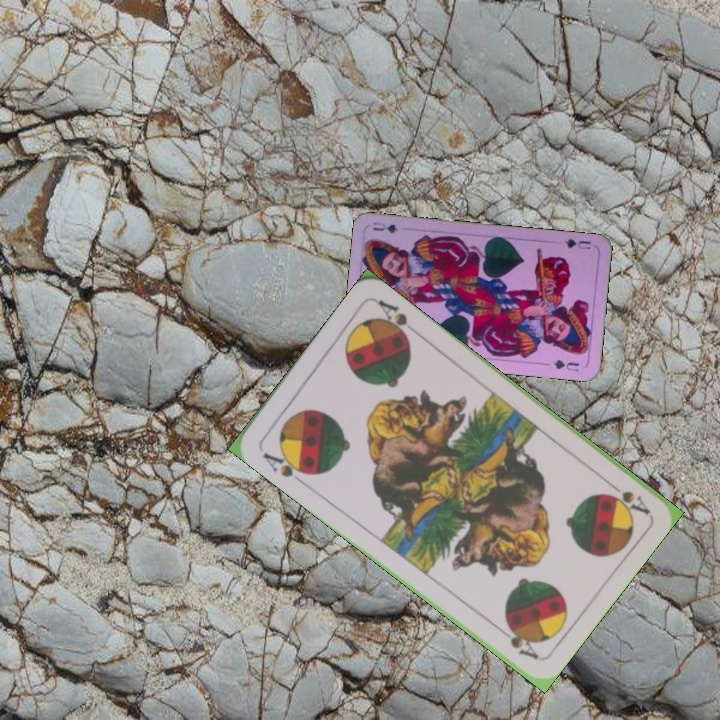GU: (560, 234, 593, 252)
SA: (600, 475, 652, 517), (258, 445, 314, 480)
